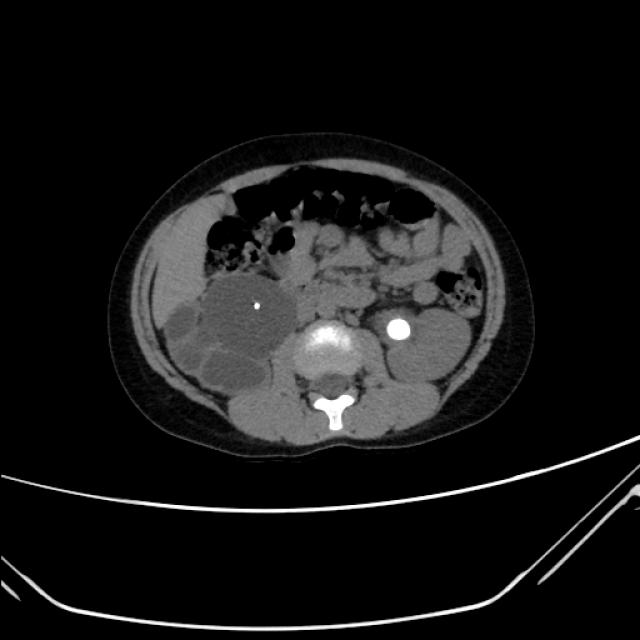kidney: (202, 270, 299, 356), (374, 304, 473, 384)
stone: (388, 318, 414, 342), (251, 299, 264, 310)
